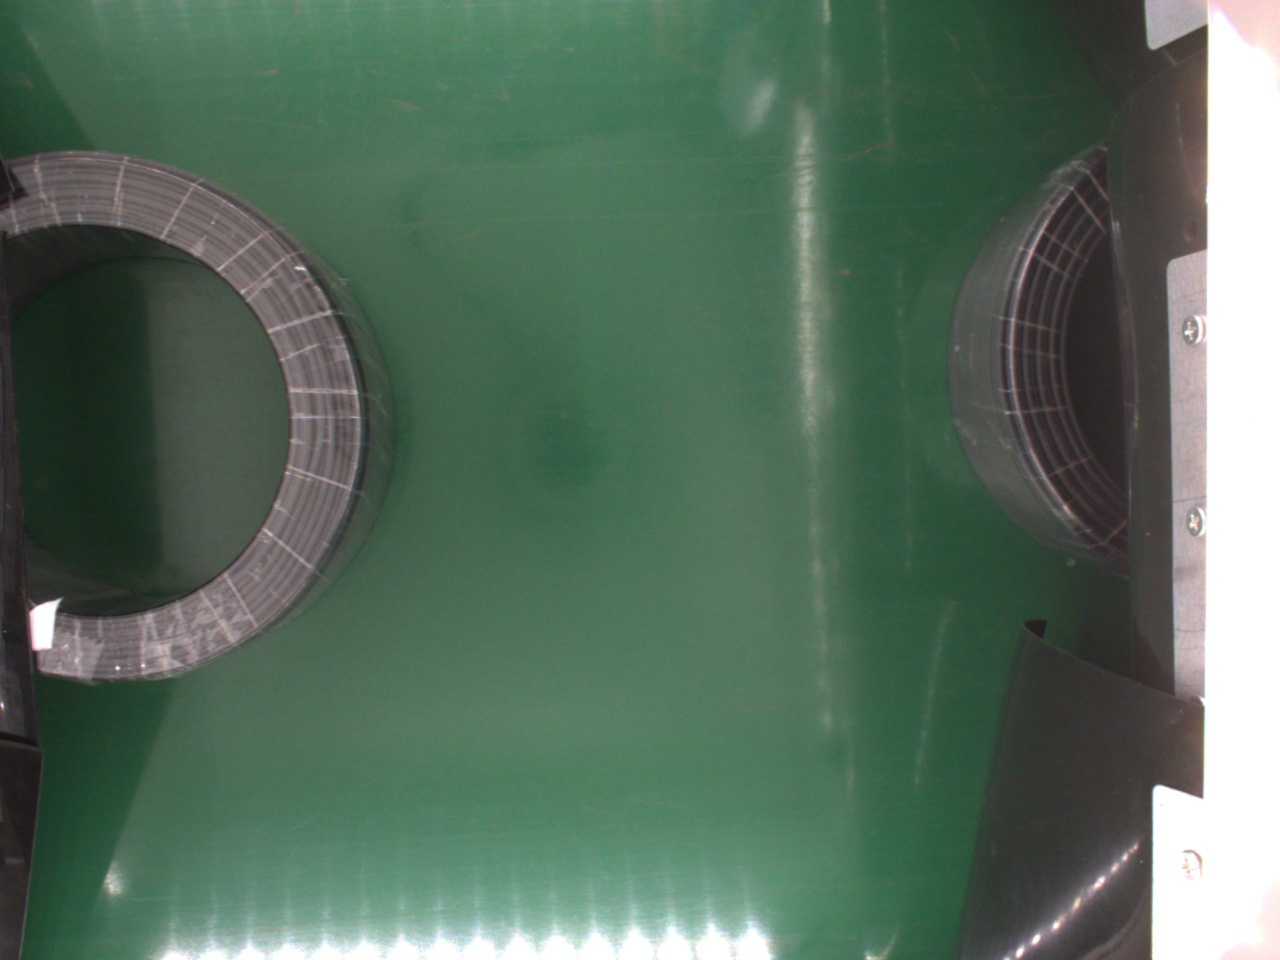black: (11, 146, 384, 686), (946, 144, 1133, 586)
